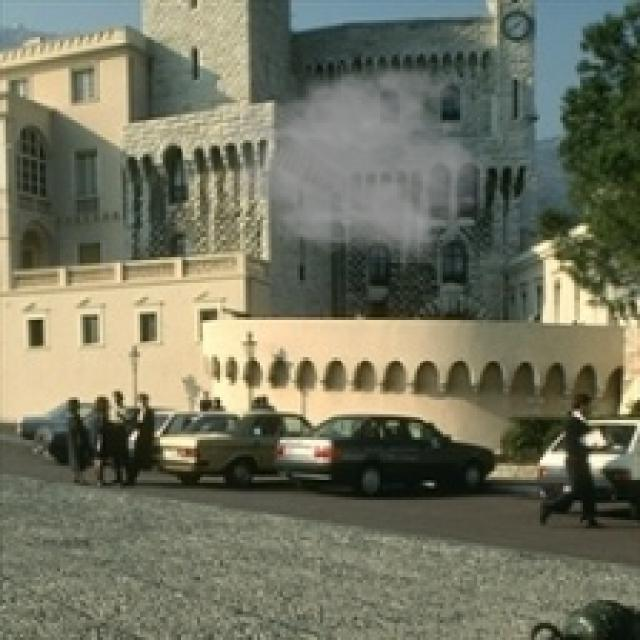Smoke: (217, 51, 497, 263)
